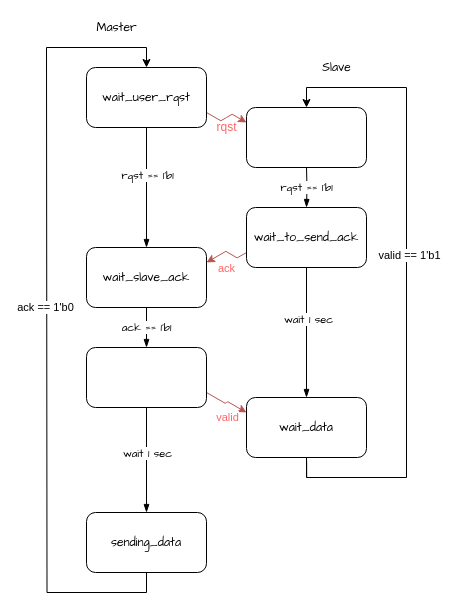
The diagram is 458 pixels wide and 611 high, and some of its shapes have lost their labels. Each missing label, with the centre of its shape:
"wait_master_rqst" belongs at (306,137).
"wait_to_send_data" belongs at (146,377).
